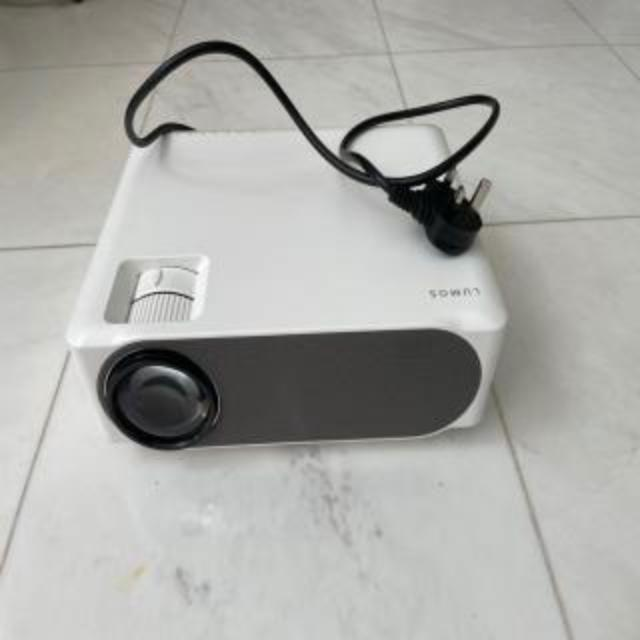Projector: (68, 70, 508, 454)
